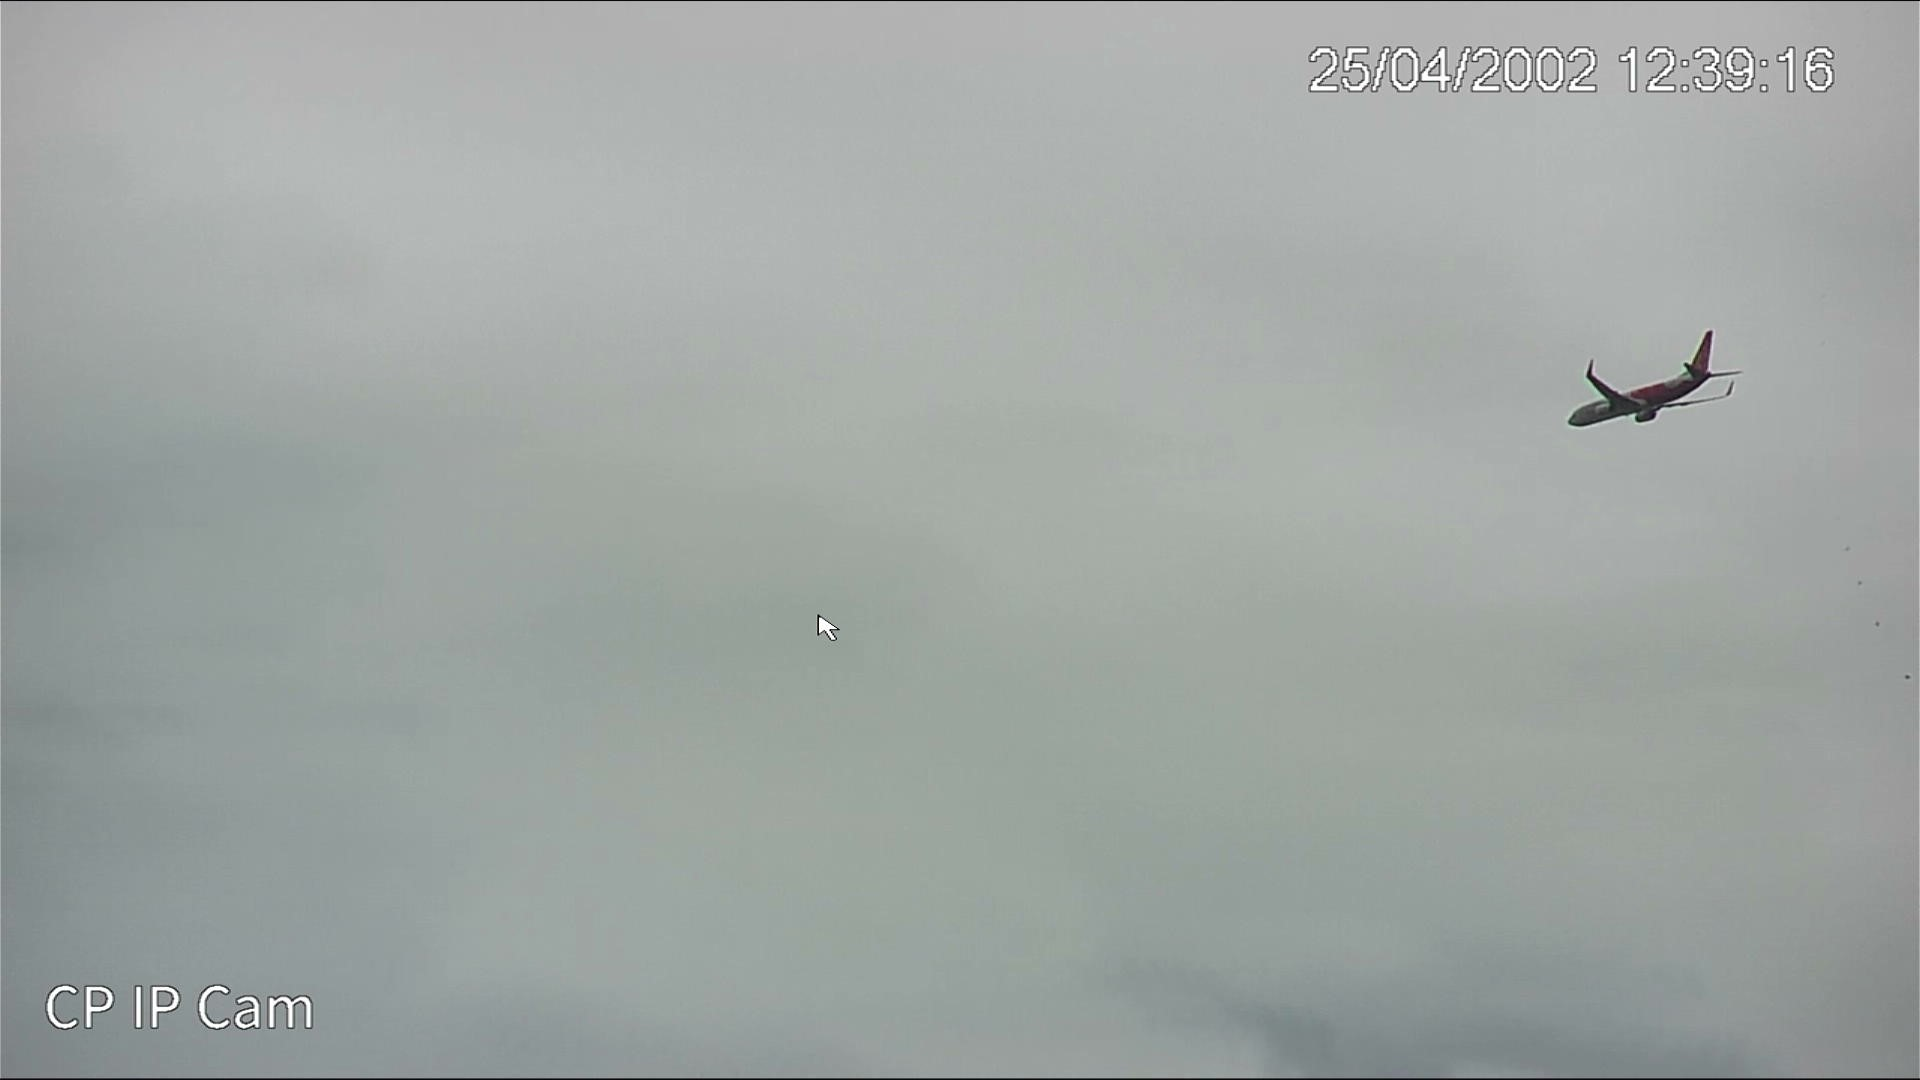SU_30: (1565, 326, 1737, 429)
